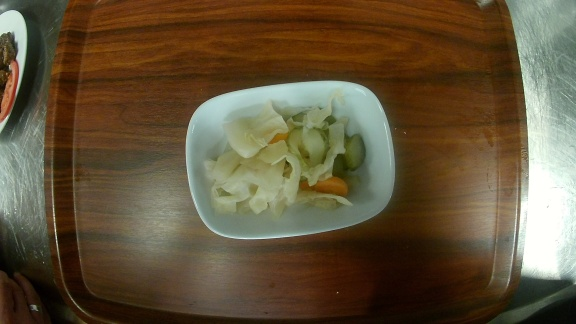tursu: (186, 80, 396, 238)
